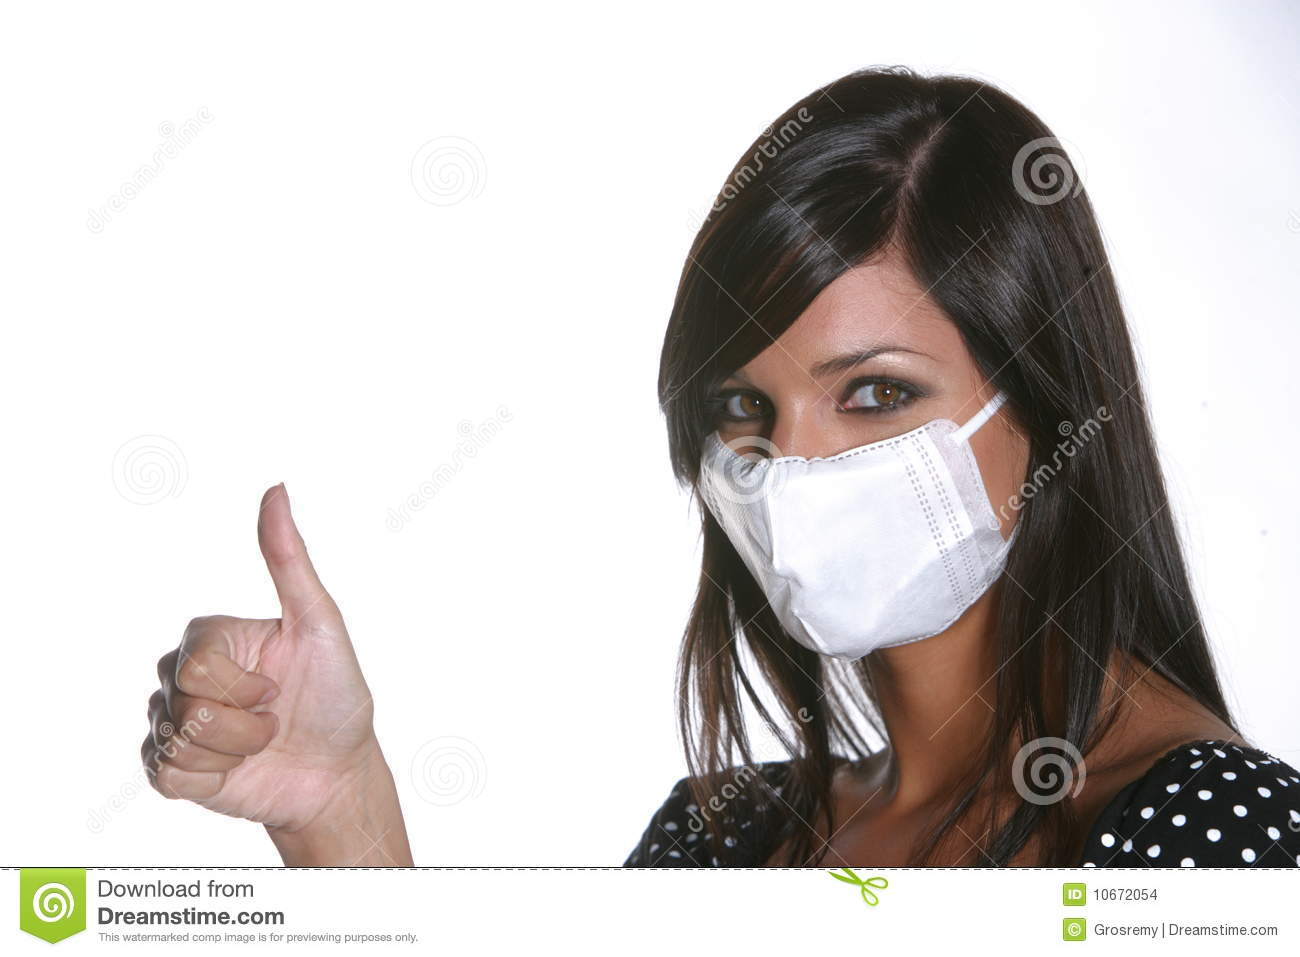mask: (702, 429, 1012, 659)
